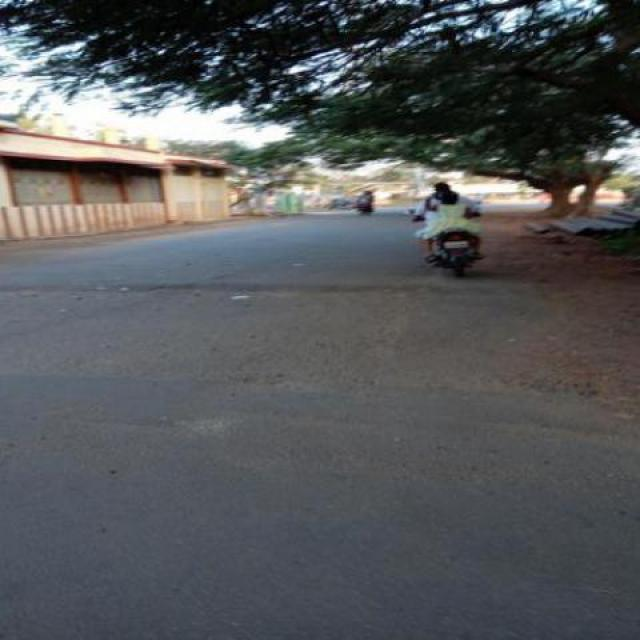Unmarked Bump: (1, 278, 540, 301)
